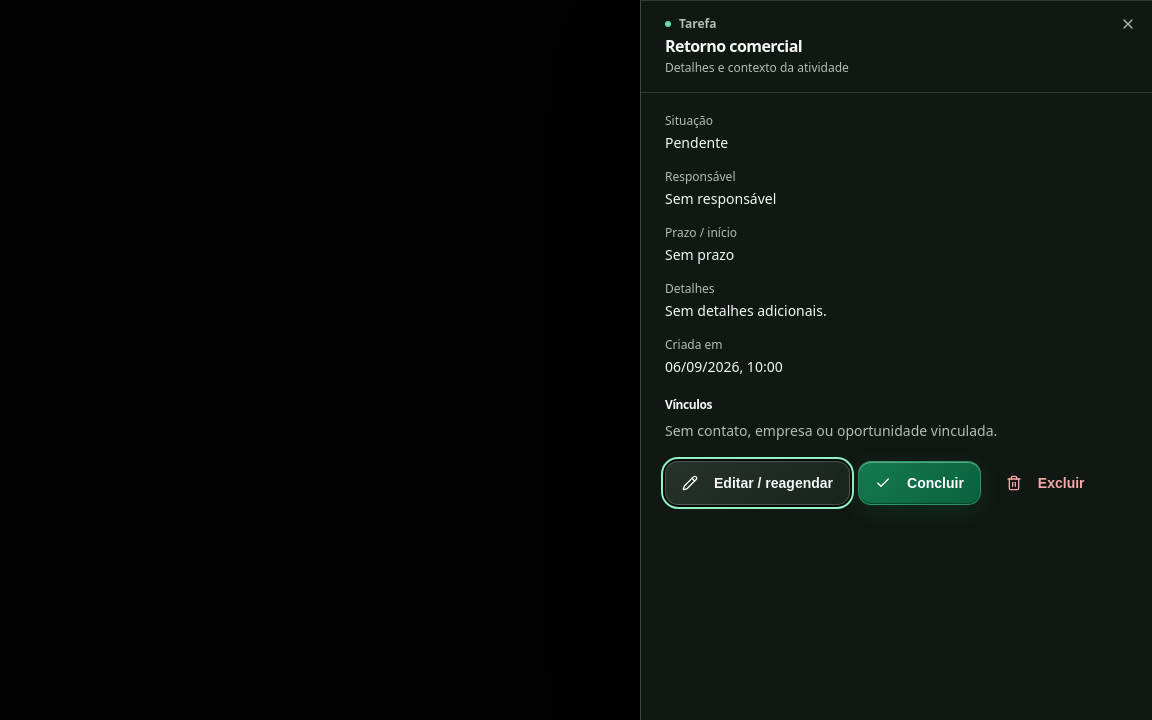
Scenario: ficha de atividade › falha ao excluir permanece visível dentro da confirmação e conserva a atividade
Click the button "Excluir": click(1045, 483) [989, 461, 1102, 505]
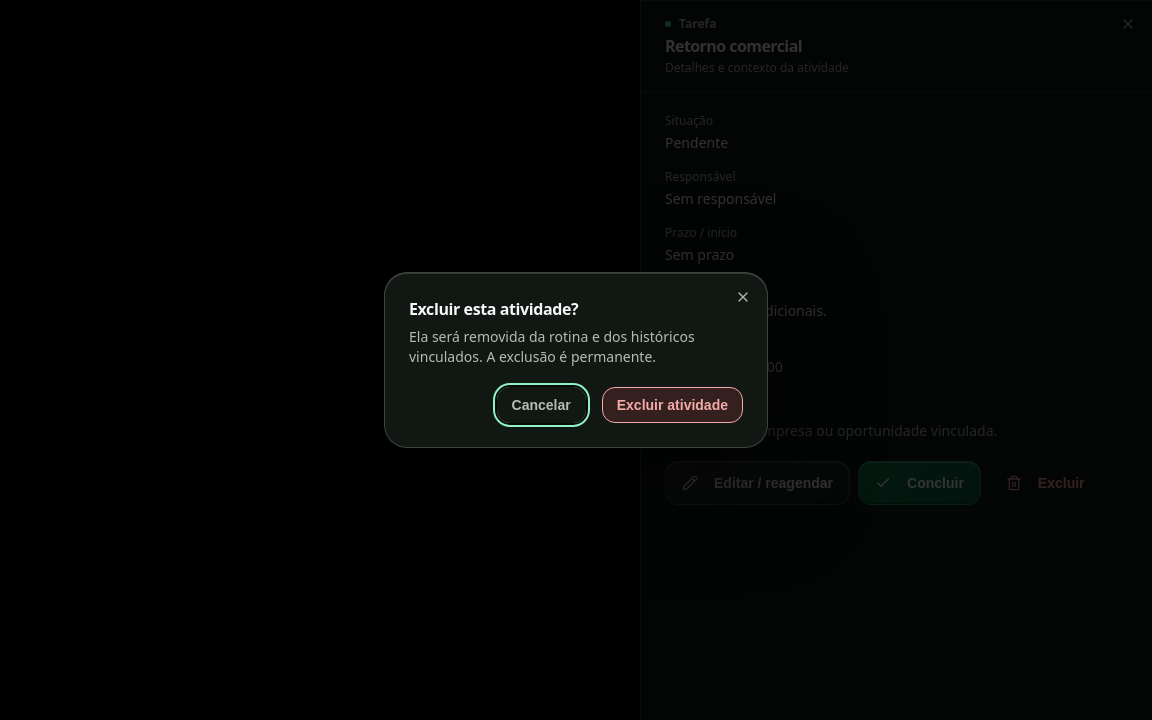
Click the button "Excluir atividade": click(672, 405) [602, 387, 743, 423]
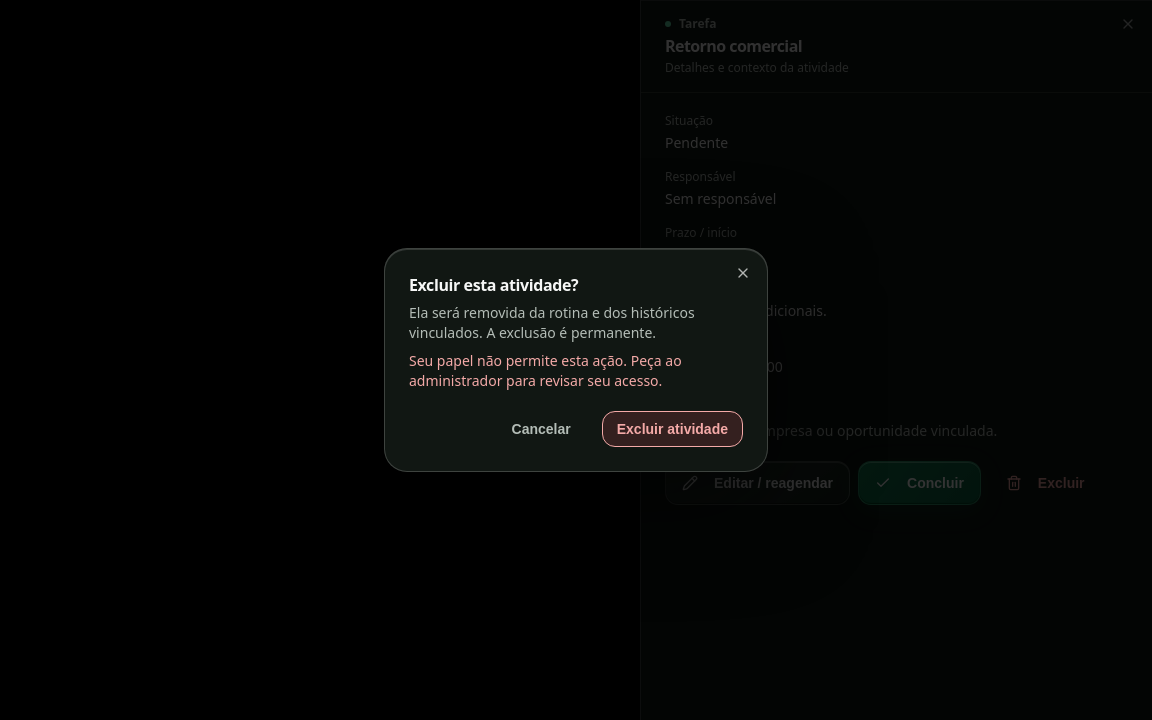
expect the button "Excluir atividade" is enabled: met, box [602, 411, 743, 447]
expect the message shows "Seu papel não permite esta ação": met, box [409, 351, 682, 390]
